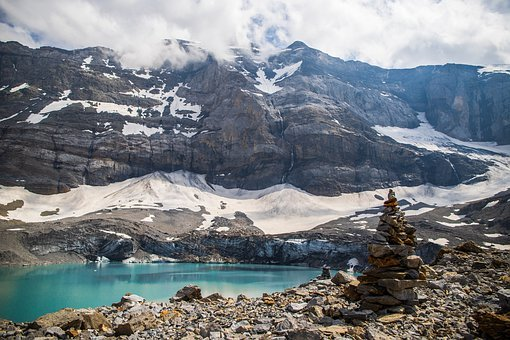lake: (4, 254, 339, 307)
mountain: (1, 54, 499, 195)
sky: (2, 2, 508, 71)
stone: (323, 209, 503, 334)
